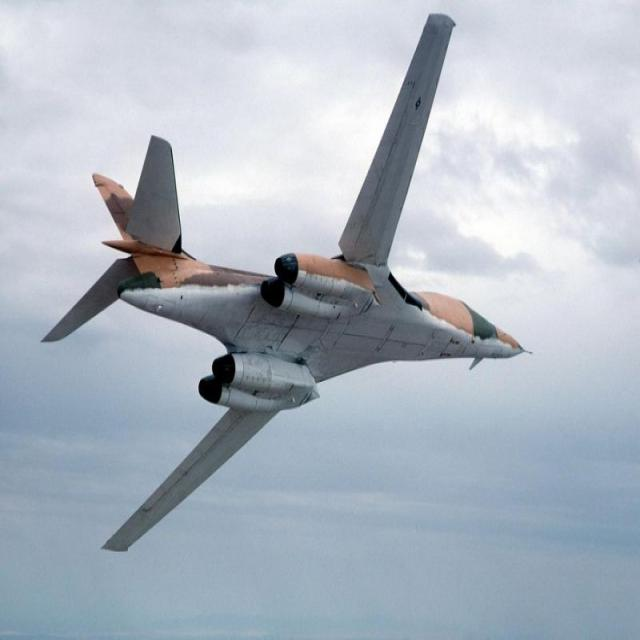MIL_Plane: (39, 13, 533, 552)
